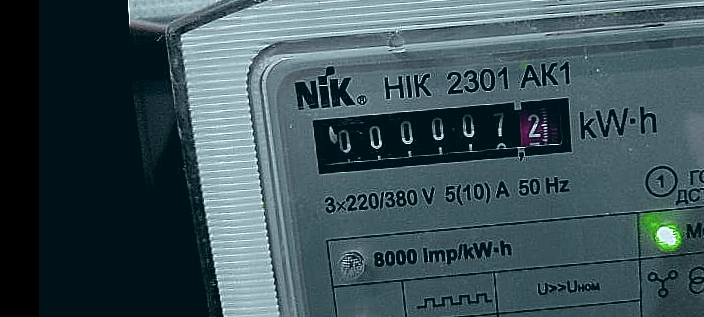0: (428, 114, 447, 142), (335, 125, 353, 153), (366, 121, 384, 149), (397, 117, 415, 145), (460, 111, 477, 140)
2: (525, 112, 543, 139)
7: (491, 108, 508, 139)
screen: (300, 90, 584, 179)
